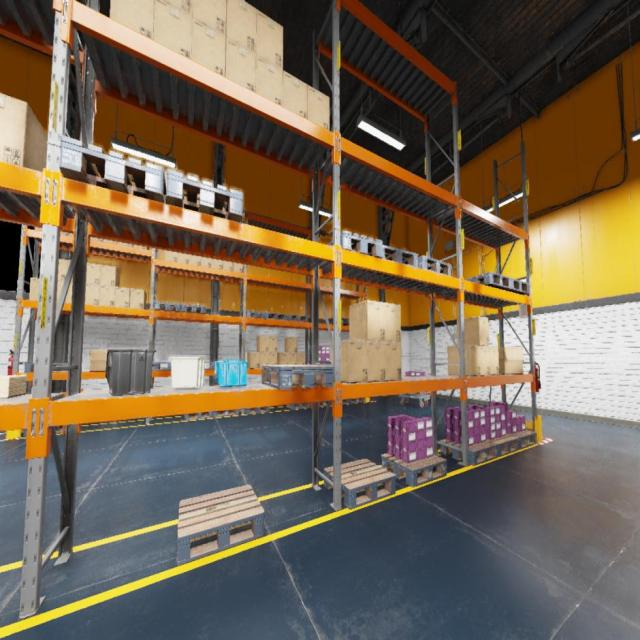box: (0, 93, 48, 172), (153, 0, 193, 59), (192, 18, 226, 77), (109, 0, 153, 39), (225, 37, 256, 92), (226, 0, 257, 54), (257, 10, 283, 70), (332, 340, 368, 382), (350, 300, 386, 341), (256, 55, 283, 106), (193, 0, 226, 37), (283, 70, 307, 119), (447, 345, 481, 376), (307, 85, 330, 130), (457, 316, 489, 345), (368, 341, 386, 382), (498, 347, 524, 374), (385, 341, 402, 381), (0, 374, 27, 398), (385, 302, 400, 341), (163, 0, 191, 16), (100, 264, 120, 286), (89, 349, 108, 371), (114, 286, 130, 308), (86, 262, 101, 284), (99, 286, 115, 306), (85, 284, 100, 305), (130, 289, 146, 308), (480, 345, 490, 375), (490, 346, 499, 375), (29, 278, 39, 301), (56, 280, 66, 302), (247, 352, 260, 368), (58, 259, 67, 281), (284, 337, 297, 352), (257, 336, 269, 351), (164, 250, 177, 262), (66, 282, 73, 303), (177, 252, 189, 264), (67, 260, 73, 282), (189, 254, 200, 266), (269, 336, 277, 352), (260, 352, 268, 368), (278, 352, 288, 364), (201, 257, 212, 267), (222, 261, 232, 271), (212, 259, 222, 269), (269, 352, 277, 364), (233, 263, 242, 273), (297, 353, 305, 364), (289, 353, 297, 364), (133, 245, 149, 250), (118, 242, 133, 246), (104, 240, 118, 244), (90, 237, 103, 241), (61, 232, 70, 236), (35, 227, 42, 231)
pallets: (59, 136, 167, 203), (177, 484, 265, 565), (166, 169, 243, 222), (324, 459, 396, 509), (381, 453, 447, 487), (320, 230, 382, 264), (262, 364, 334, 390), (440, 439, 498, 465), (368, 245, 418, 268), (464, 272, 511, 290), (486, 435, 519, 457), (418, 256, 452, 276), (507, 430, 537, 450), (23, 426, 63, 436), (25, 363, 68, 372), (507, 278, 529, 295), (155, 301, 181, 312), (182, 304, 206, 314), (185, 412, 213, 420), (213, 410, 239, 418), (244, 406, 270, 414), (286, 402, 310, 410), (328, 317, 349, 325), (286, 315, 308, 322), (246, 310, 265, 318), (266, 313, 287, 320), (154, 362, 171, 370), (402, 392, 428, 396), (350, 398, 365, 403), (205, 362, 214, 369), (320, 401, 332, 406), (342, 399, 350, 404)
